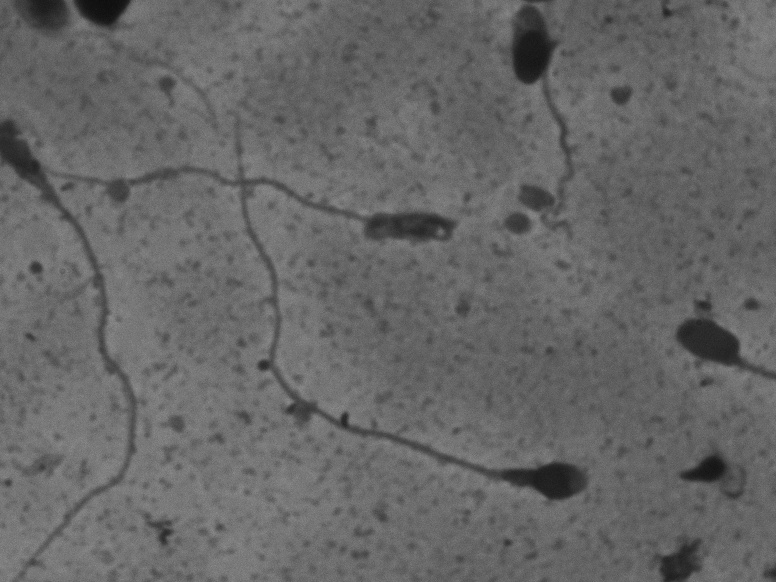Abnormal: (223, 111, 610, 513), (86, 141, 463, 276), (488, 6, 608, 250)
